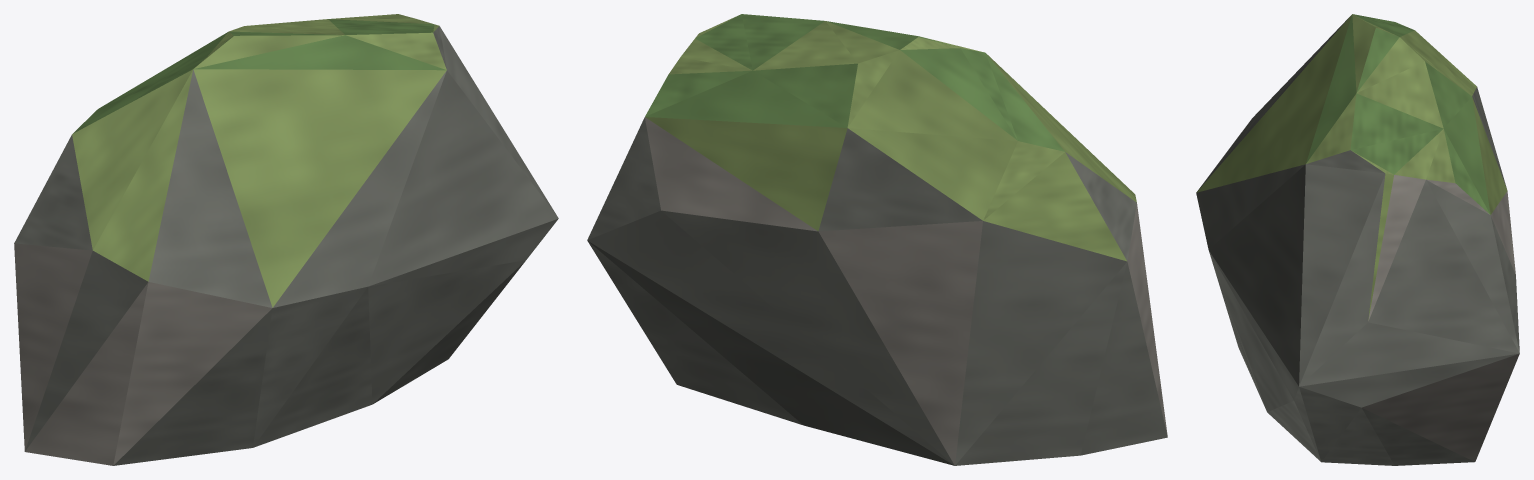
The model's file is rock_mossy_medium_04.fbx.
The picture shows the model from 3 angles, left to right: view 1: azimuth 30°, elevation 25°; view 2: azimuth 150°, elevation 25°; view 3: azimuth 270°, elevation 25°; orthographic projection. The views are drawn at different scales.
Visible parts, largest first — view 1: rock_mossy_medium_04; view 2: rock_mossy_medium_04; view 3: rock_mossy_medium_04.
Boxes of the visible parts, x1,y1,x2,y2 form: rock_mossy_medium_04: (14, 14, 558, 465); rock_mossy_medium_04: (587, 14, 1167, 465); rock_mossy_medium_04: (1196, 14, 1519, 465).
Size of the model in its own units: 2.07 by 1.35 by 1.15.
